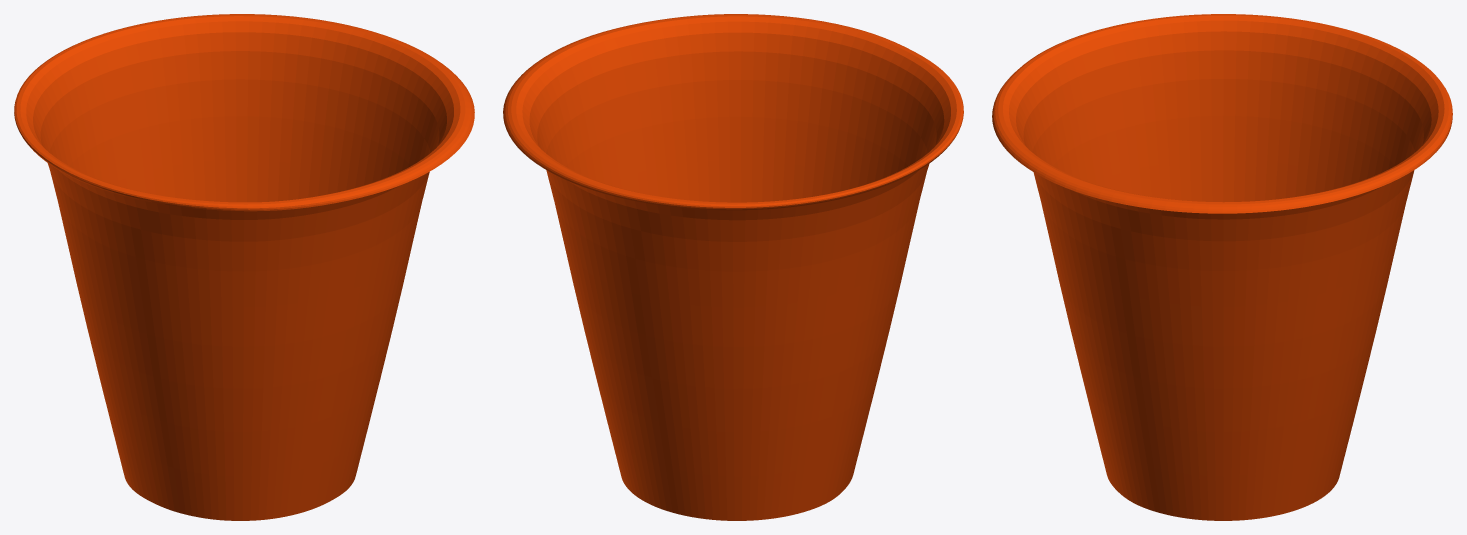
Rendered from Paso.fbx.
3 views of the same model, side by side, from view 1: azimuth 30°, elevation 25°; view 2: azimuth 150°, elevation 25°; view 3: azimuth 270°, elevation 25° (orthographic).
Visible parts, largest first — view 1: Cylinder; view 2: Cylinder; view 3: Cylinder.
Boxes of the visible parts, x1,y1,x2,y2 form: Cylinder: (14,14,474,520); Cylinder: (503,14,963,520); Cylinder: (992,14,1452,520).
Size of the model in its own units: 39.71 by 34.39 by 39.56.
